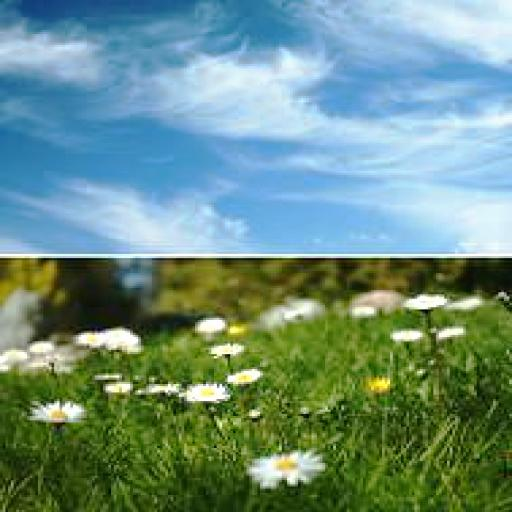daisy: (241, 446, 336, 495), (174, 373, 228, 414), (35, 397, 92, 429), (225, 363, 279, 390), (111, 322, 149, 359), (404, 286, 452, 309), (390, 316, 417, 352), (76, 324, 111, 350), (206, 337, 252, 354), (192, 318, 233, 335), (439, 320, 471, 341), (30, 335, 57, 356), (352, 301, 379, 320), (103, 382, 138, 395), (90, 369, 124, 380)
